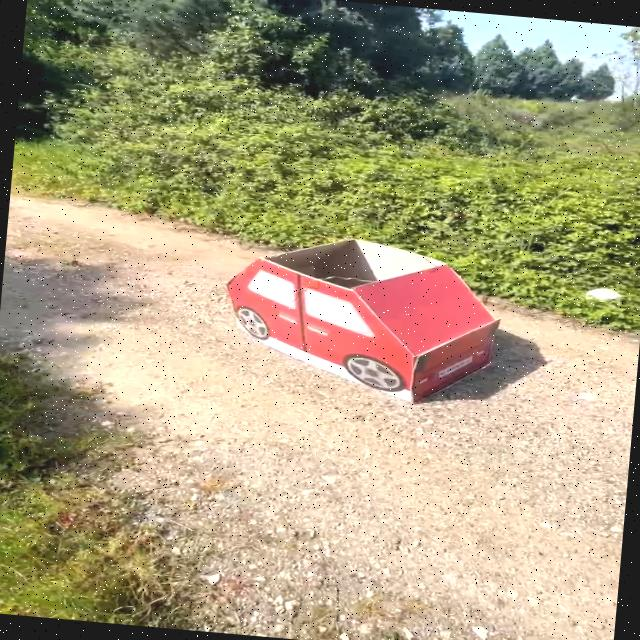red_car: (184, 212, 528, 420)
